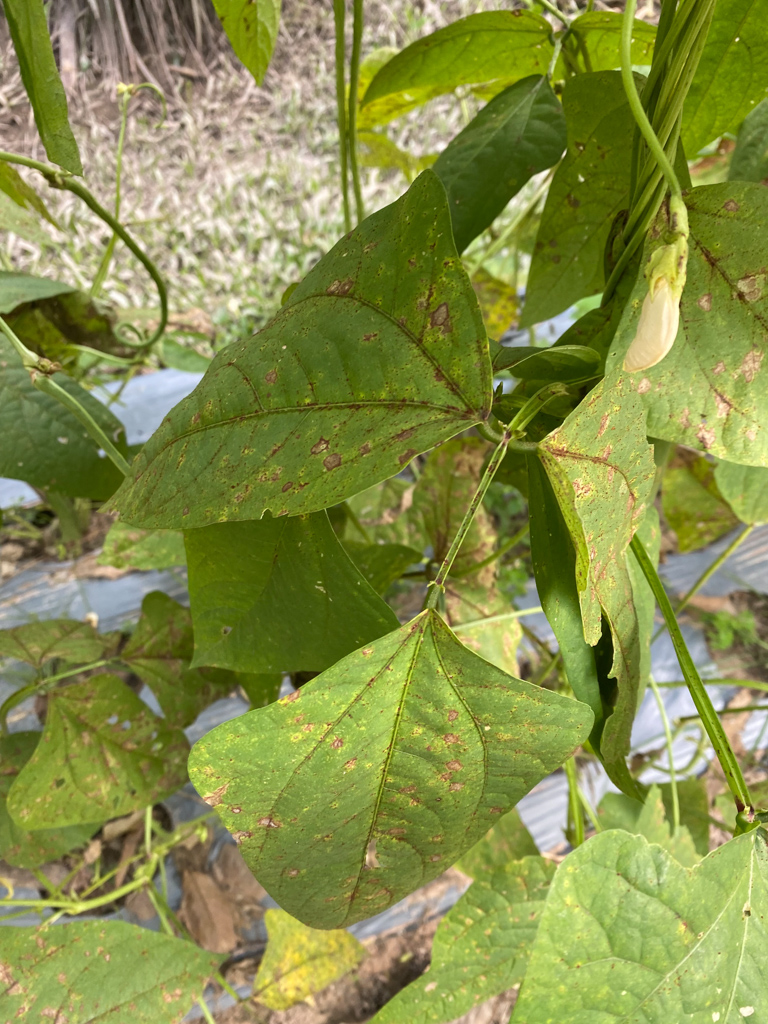Rust: (96, 164, 492, 536), (194, 616, 568, 960), (9, 684, 192, 856), (555, 387, 659, 635), (679, 184, 768, 472), (3, 920, 196, 1017)
